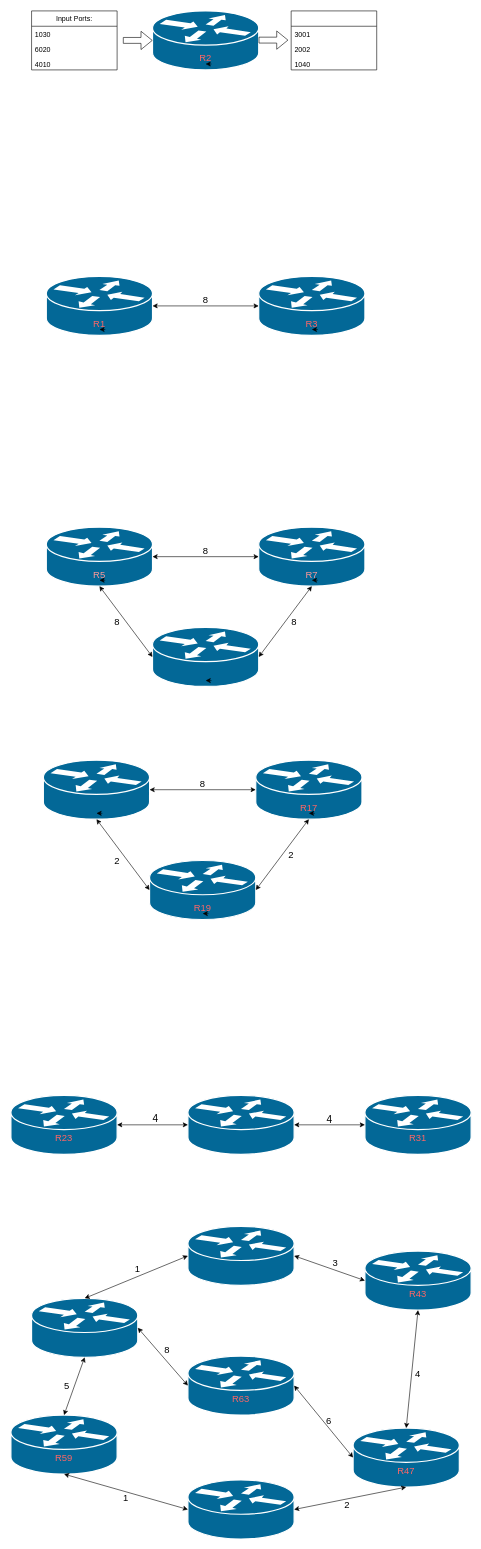
This 481x1549 diagram has some shape labels left out. The box of each missing label's shape, as (x1, y1, x2, y2) in pixels:
Output Ports:: (291, 10, 377, 70)
R11: (152, 627, 259, 687)
R13: (42, 759, 150, 820)
R29: (187, 1094, 294, 1155)
R37: (31, 1297, 138, 1358)
R41: (187, 1225, 294, 1286)
R53: (187, 1479, 294, 1539)
